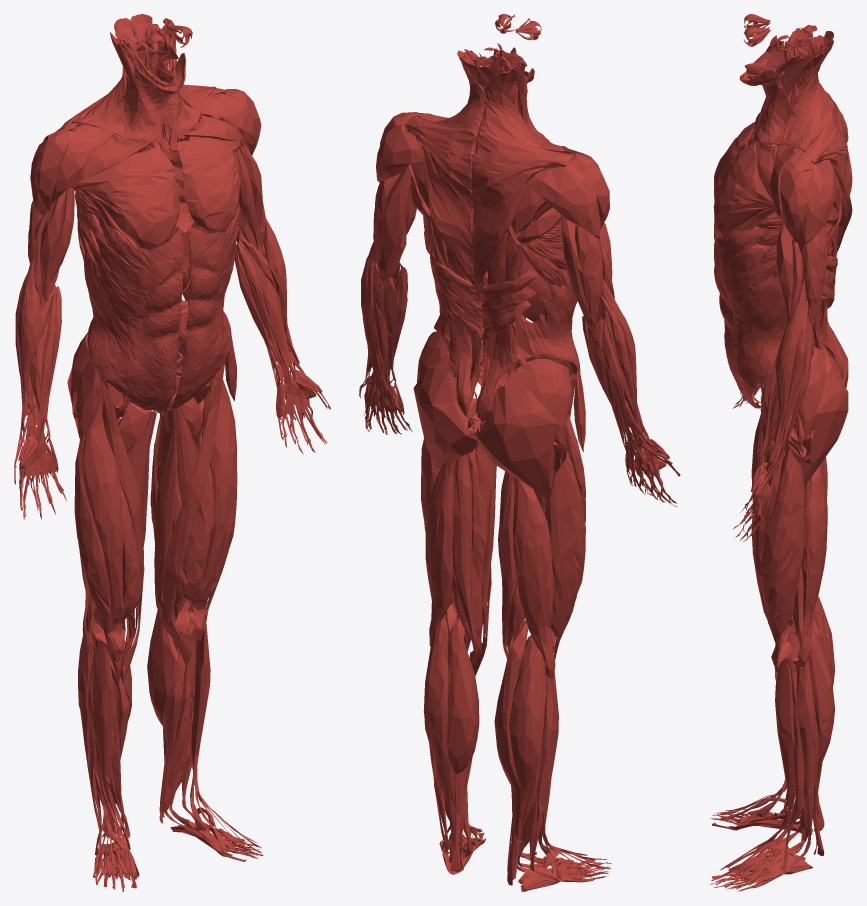
File: musculos-leve.glb
3 views of the same model, side by side, from view 1: azimuth 30°, elevation 25°; view 2: azimuth 150°, elevation 25°; view 3: azimuth 270°, elevation 25° (orthographic).
Parts seen in each view (by area): view 1: FMA13336, FMA13337, FMA79979, FMA38928, FMA79980, FMA38929, FMA22355, FMA38930, FMA45739, FMA43884, FMA22354, FMA22544 (+43 smaller); view 2: FMA22328, FMA45888, FMA38930, FMA33583, FMA33581, FMA22329, FMA45960, FMA45889, FMA45958, FMA13336, FMA22359, FMA34684 (+44 smaller); view 3: FMA13337, FMA38931, FMA45889, FMA79980, FMA22329, FMA22545, FMA45740, FMA33587, FMA34683, FMA38487, FMA45961, FMA22553 (+35 smaller).
Boxes of the visible parts, x1,y1,x2,y2 form: FMA13336: (83,216,183,412); FMA13337: (168,203,240,409); FMA79979: (68,146,179,249); FMA38928: (82,381,125,662); FMA79980: (177,137,241,231); FMA38929: (188,370,237,642); FMA22355: (163,360,225,664); FMA38930: (74,434,115,660); FMA45739: (71,64,175,144); FMA43884: (154,407,191,640); FMA22354: (98,373,144,680); FMA22544: (92,641,130,849); FMA22328: (476,371,560,498); FMA45888: (512,476,555,679); FMA38930: (545,443,585,659); FMA33583: (415,131,480,298); FMA33581: (471,153,556,298); FMA22329: (413,355,477,471); FMA45960: (509,640,545,788); FMA45889: (425,459,456,646); FMA45958: (446,617,479,773); FMA13336: (520,268,580,377); FMA22359: (452,454,478,667); FMA34684: (527,165,600,240); FMA13337: (714,226,810,408); FMA38931: (760,440,805,671); FMA45889: (797,463,827,668); FMA79980: (713,142,773,238); FMA22329: (801,350,848,486); FMA22545: (756,658,795,851); FMA45740: (739,69,809,150); FMA33587: (782,40,833,145); FMA34683: (780,156,814,241); FMA38487: (768,275,806,463); FMA45961: (793,621,834,763); FMA22553: (765,663,814,866).
Bounding box in the file's own units: 0.6386 × 1.61 × 0.2508.
